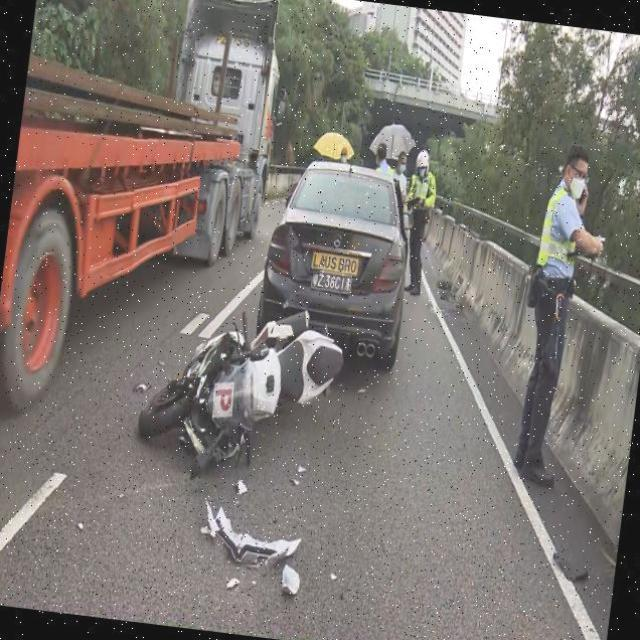accident: (123, 256, 369, 504)
